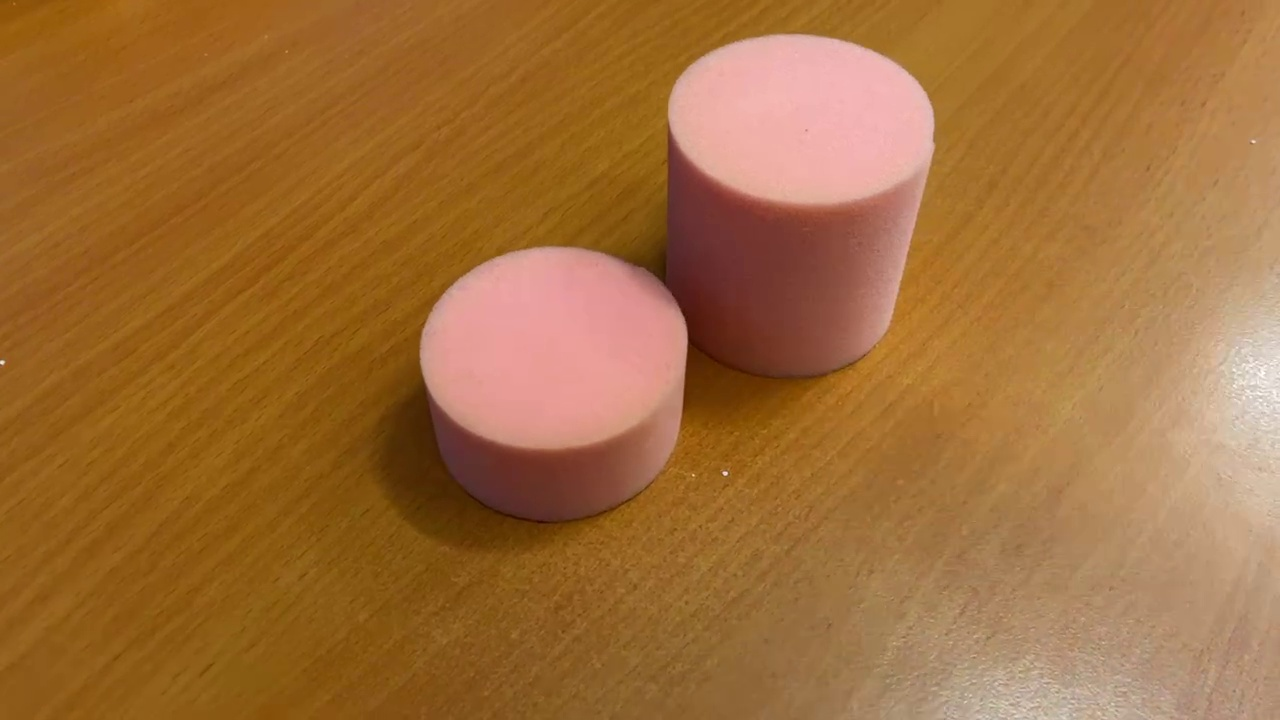Clyinder_short: (412, 237, 691, 526)
Cylinder: (660, 26, 939, 384)
